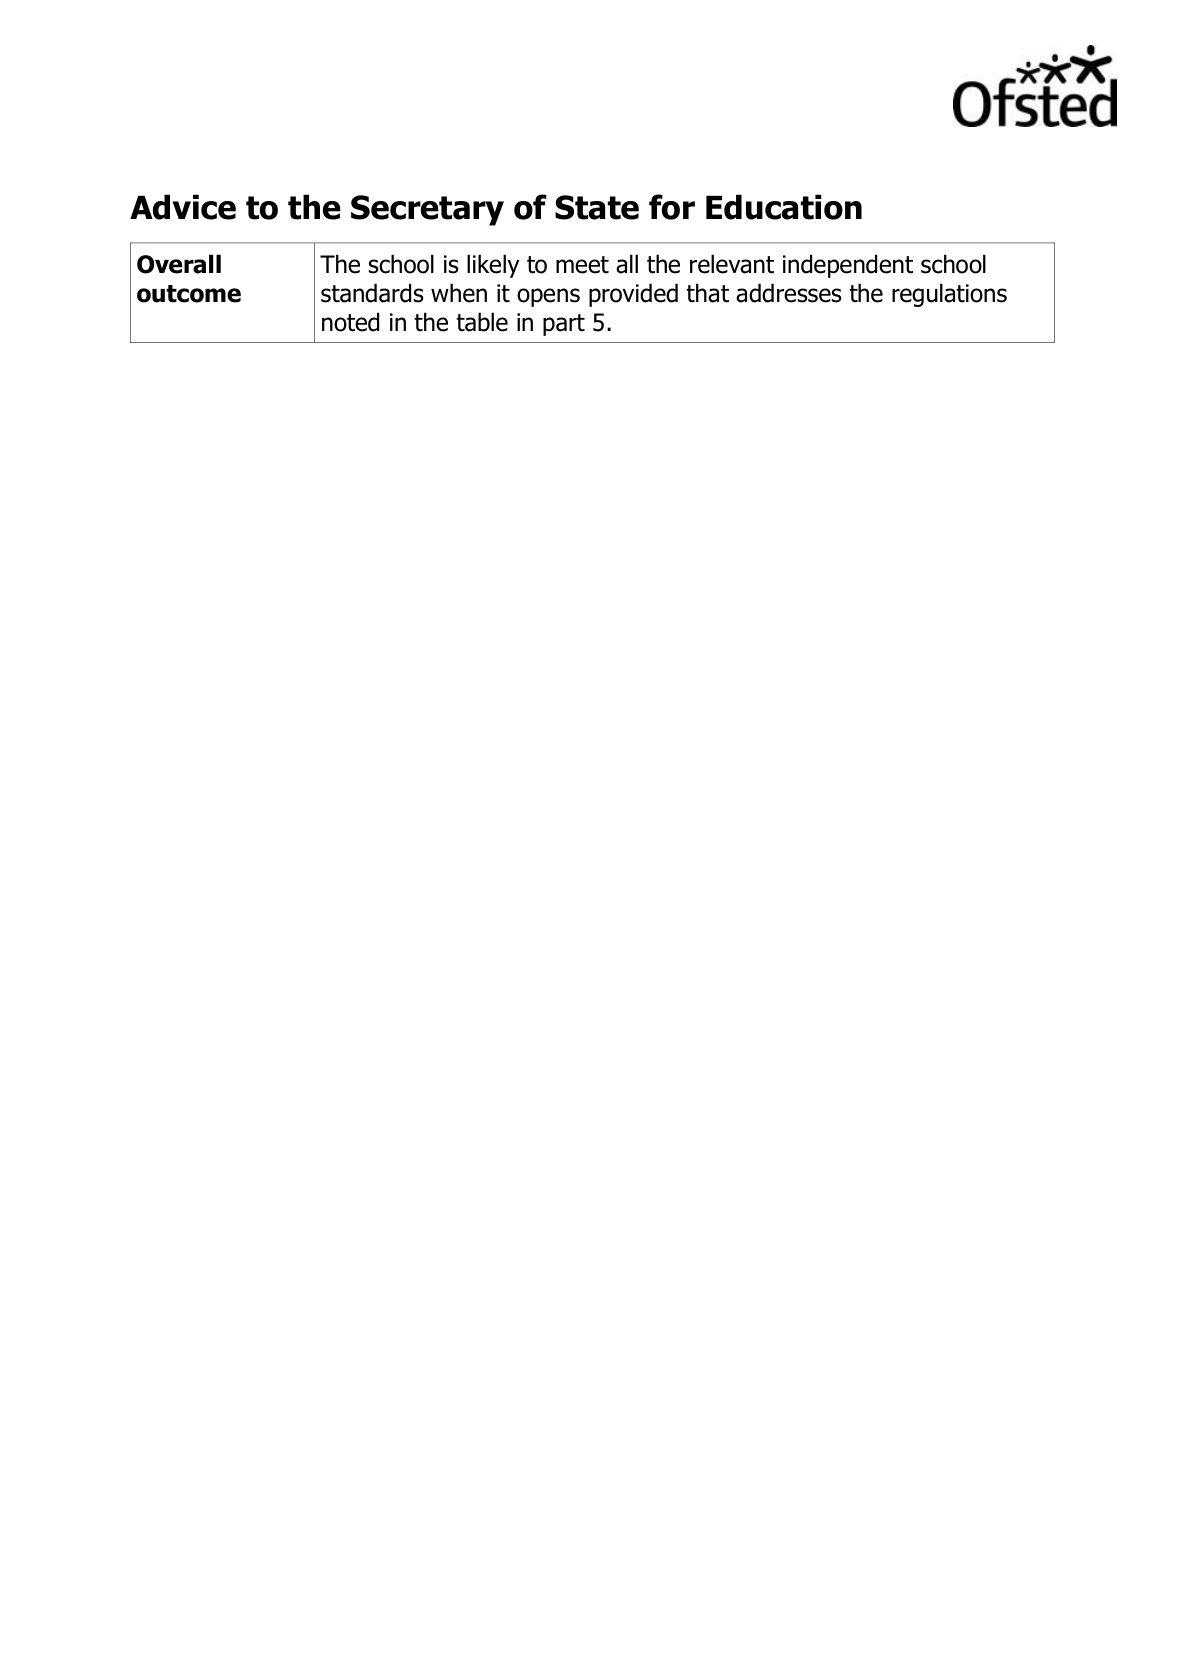full_lined: (129, 241, 1056, 345)
